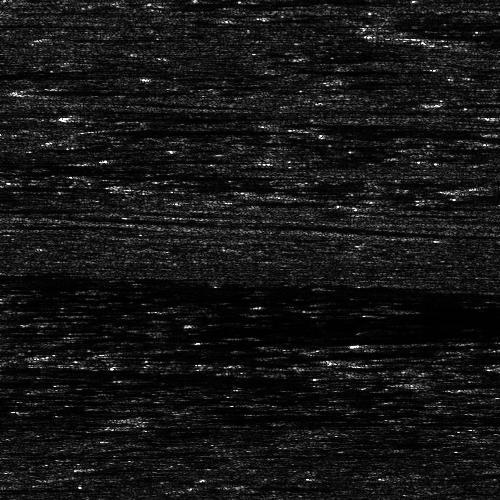object: (68, 418, 183, 433), (26, 123, 171, 134), (61, 97, 102, 130), (95, 177, 178, 190), (284, 353, 367, 364), (446, 180, 500, 193), (333, 339, 406, 348), (463, 363, 500, 374), (88, 155, 141, 162), (386, 381, 439, 386), (51, 86, 92, 91)
shadow: (82, 97, 281, 130), (137, 177, 337, 190), (99, 123, 299, 134), (126, 418, 258, 433), (115, 155, 265, 162), (326, 353, 405, 364), (72, 86, 221, 91), (370, 339, 445, 348), (0, 204, 120, 209), (413, 381, 497, 386), (0, 182, 68, 187)
